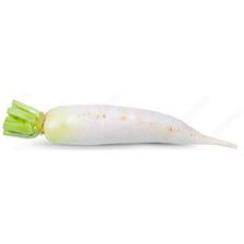radish: (0, 0, 244, 244)
